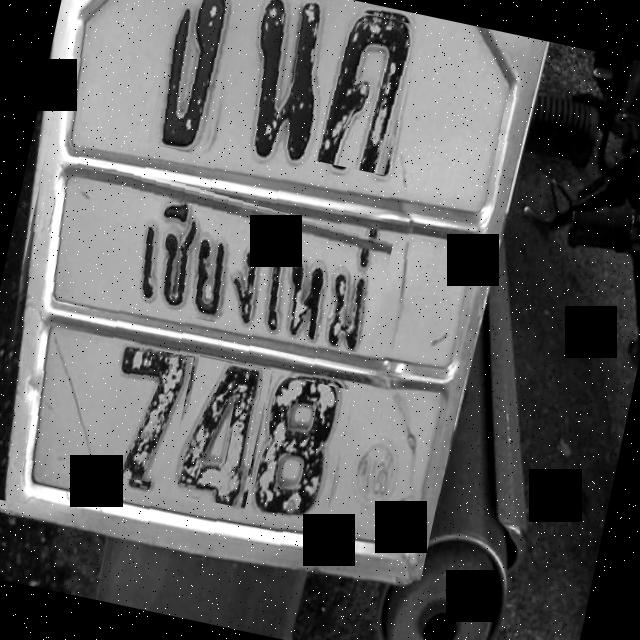letters: (222, 0, 345, 178), (315, 8, 426, 178), (242, 374, 353, 536), (146, 0, 252, 158), (88, 340, 194, 490), (170, 356, 272, 510)
license-plate: (5, 0, 535, 573)
province: (106, 170, 396, 355)
